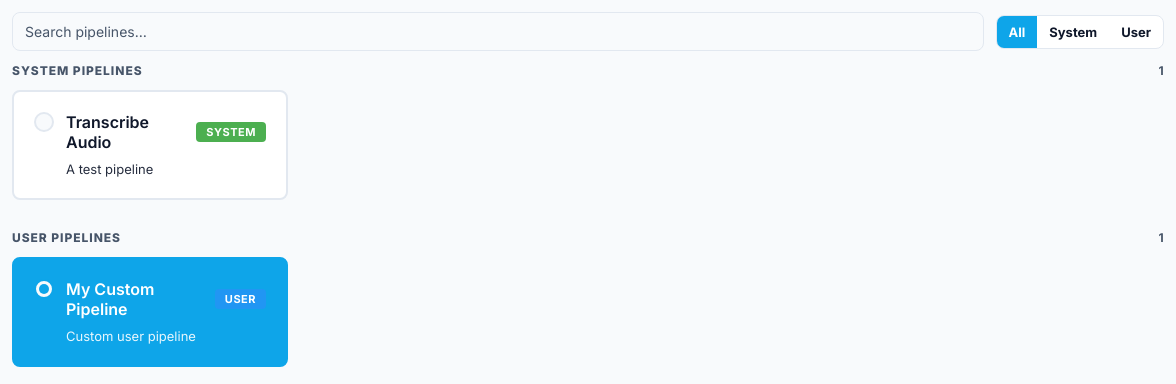
Test: TemplateSelector › clears filters when hint button is clicked
What coordinates should you click on to do the following:
click the button "System"
I would click on:
 (1073, 32)
Its box is x1=1037 y1=16 x2=1109 y2=48.
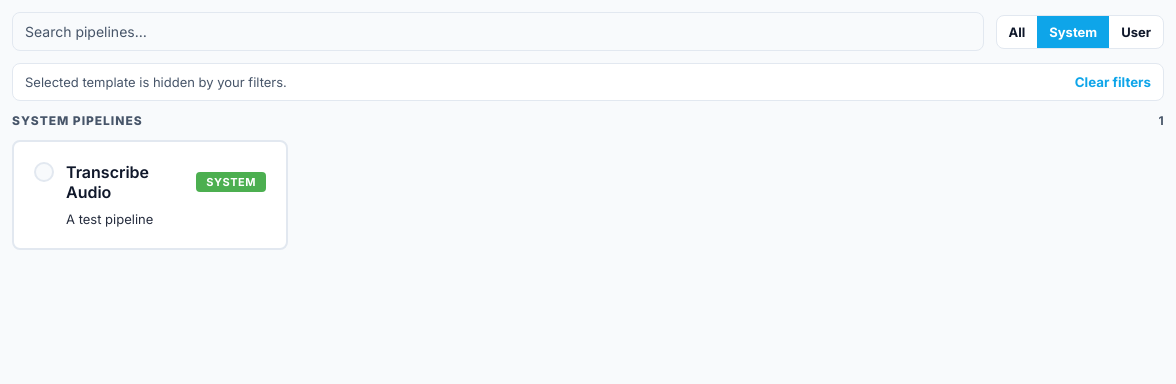
What coordinates should you click on to do the following:
click the button "Clear filters"
I would click on:
 (1113, 82)
Its box is x1=1075 y1=74 x2=1151 y2=90.
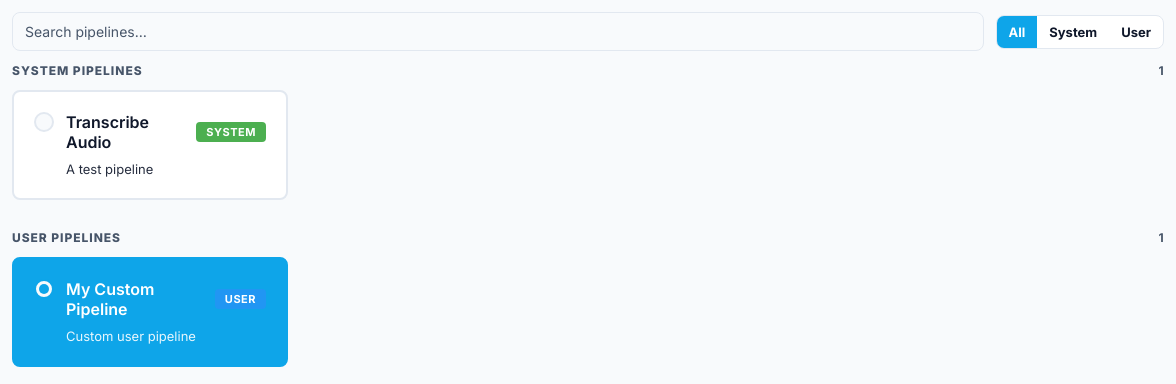
Expected: the text "Transcribe Audio" is shown, x1=66 y1=112 x2=149 y2=152
Expected: the text "My Custom Pipeline" is shown, x1=66 y1=279 x2=154 y2=319
